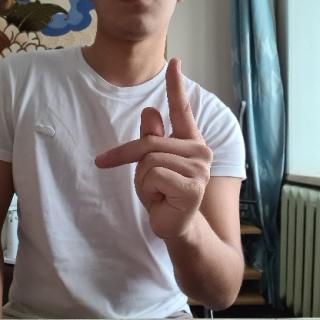DHAA: (92, 53, 220, 244)
